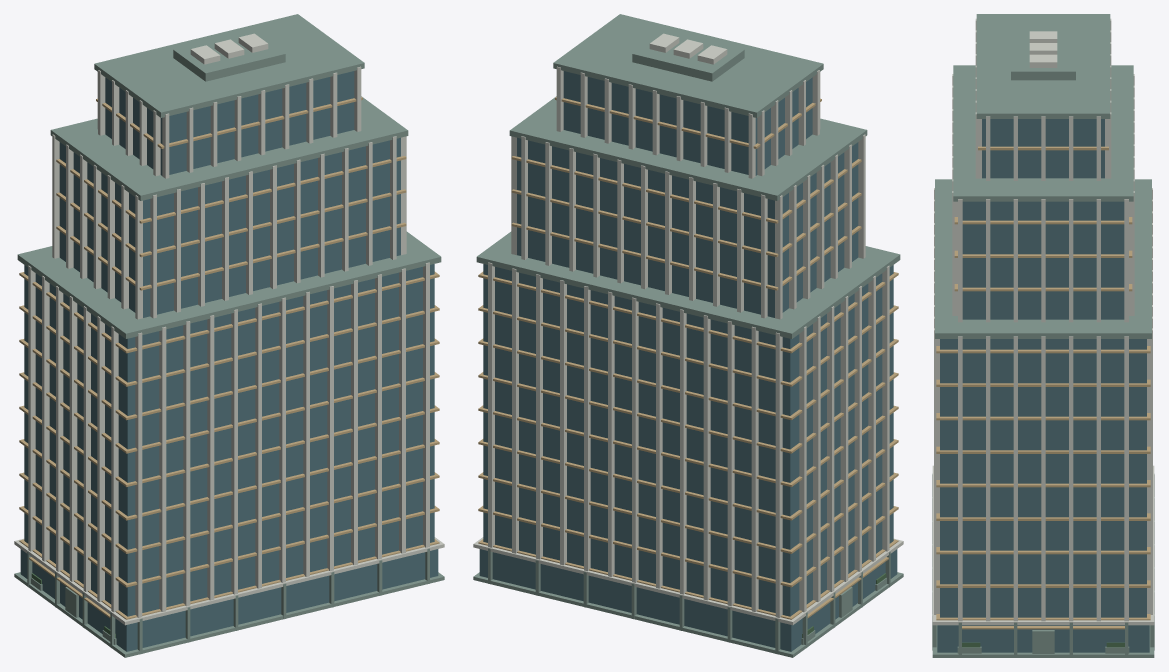
File: architecture-3.glb
3 views of the same model, side by side, from view 1: azimuth 30°, elevation 25°; view 2: azimuth 150°, elevation 25°; view 3: azimuth 270°, elevation 25° (orthographic).
Parts seen in each view (by area): view 1: Architecture_3_1, Architecture_3_0, Architecture_3_2, Architecture_3_3; view 2: Architecture_3_1, Architecture_3_0, Architecture_3_2, Architecture_3_3; view 3: Architecture_3_1, Architecture_3_2, Architecture_3_0, Architecture_3_3.
Part boxes in pixels (<box>): Architecture_3_1: <box>20,71,438,651</box>; Architecture_3_0: <box>14,33,444,625</box>; Architecture_3_2: <box>14,14,444,657</box>; Architecture_3_3: <box>19,97,439,619</box>; Architecture_3_1: <box>479,71,897,651</box>; Architecture_3_0: <box>473,33,903,625</box>; Architecture_3_2: <box>473,14,903,657</box>; Architecture_3_3: <box>478,97,898,619</box>; Architecture_3_1: <box>937,119,1149,652</box>; Architecture_3_2: <box>932,14,1154,657</box>; Architecture_3_0: <box>932,18,1154,625</box>; Architecture_3_3: <box>936,146,1150,629</box>.
Bounding box in the file's own units: 40.05 × 63.65 × 24.05.
